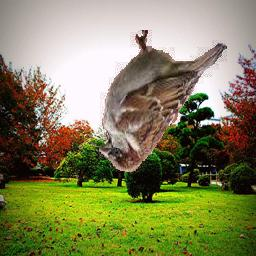Sparrow: (99, 30, 227, 172)
